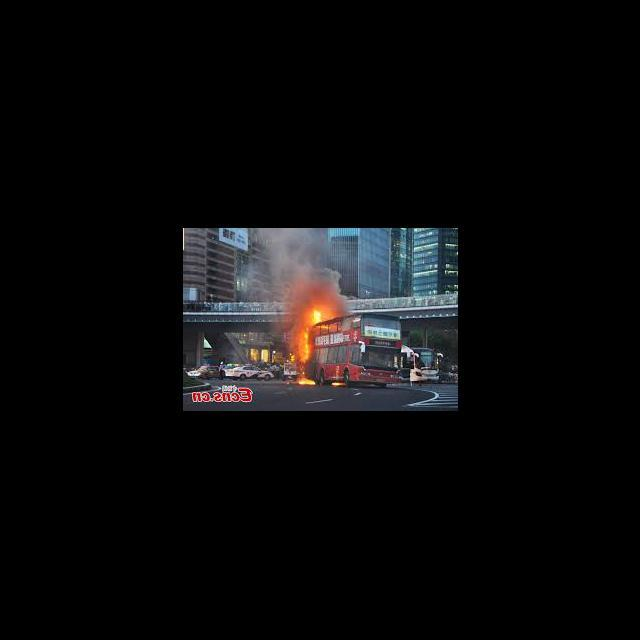Fire: (296, 324, 310, 366), (312, 308, 326, 329), (298, 379, 316, 387), (332, 382, 345, 388)
Smoke: (258, 229, 330, 297), (283, 276, 345, 307)
